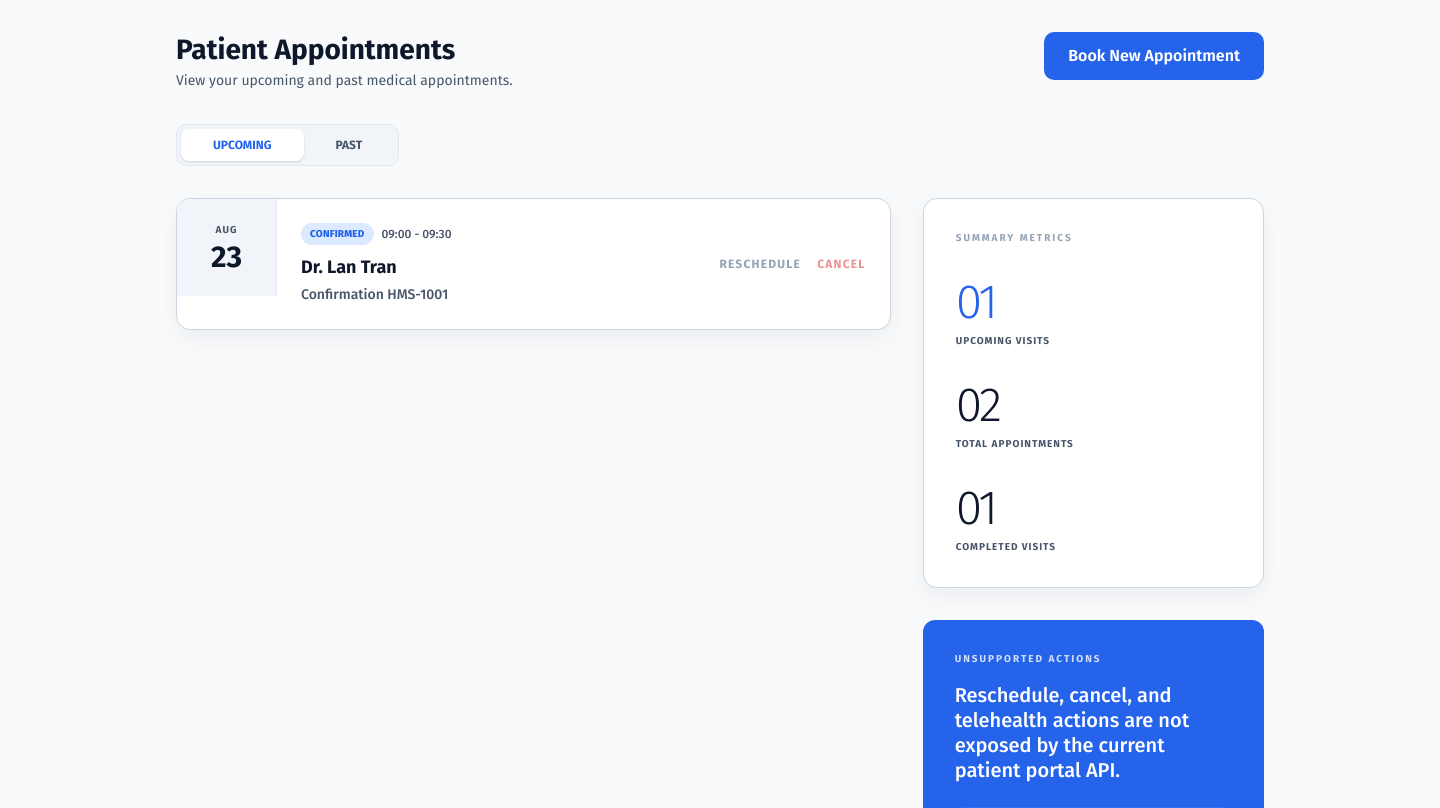
Test: PatientAppointmentsPage › switches between upcoming and past appointments
Expected: the heading "Dr. Lan Tran" is shown, [301,256,397,278]
Expected: the text "Dr. Minh Nguyen" is not shown
Step 1. Click the button "PAST" → (349, 145), box [304,129,394,161]
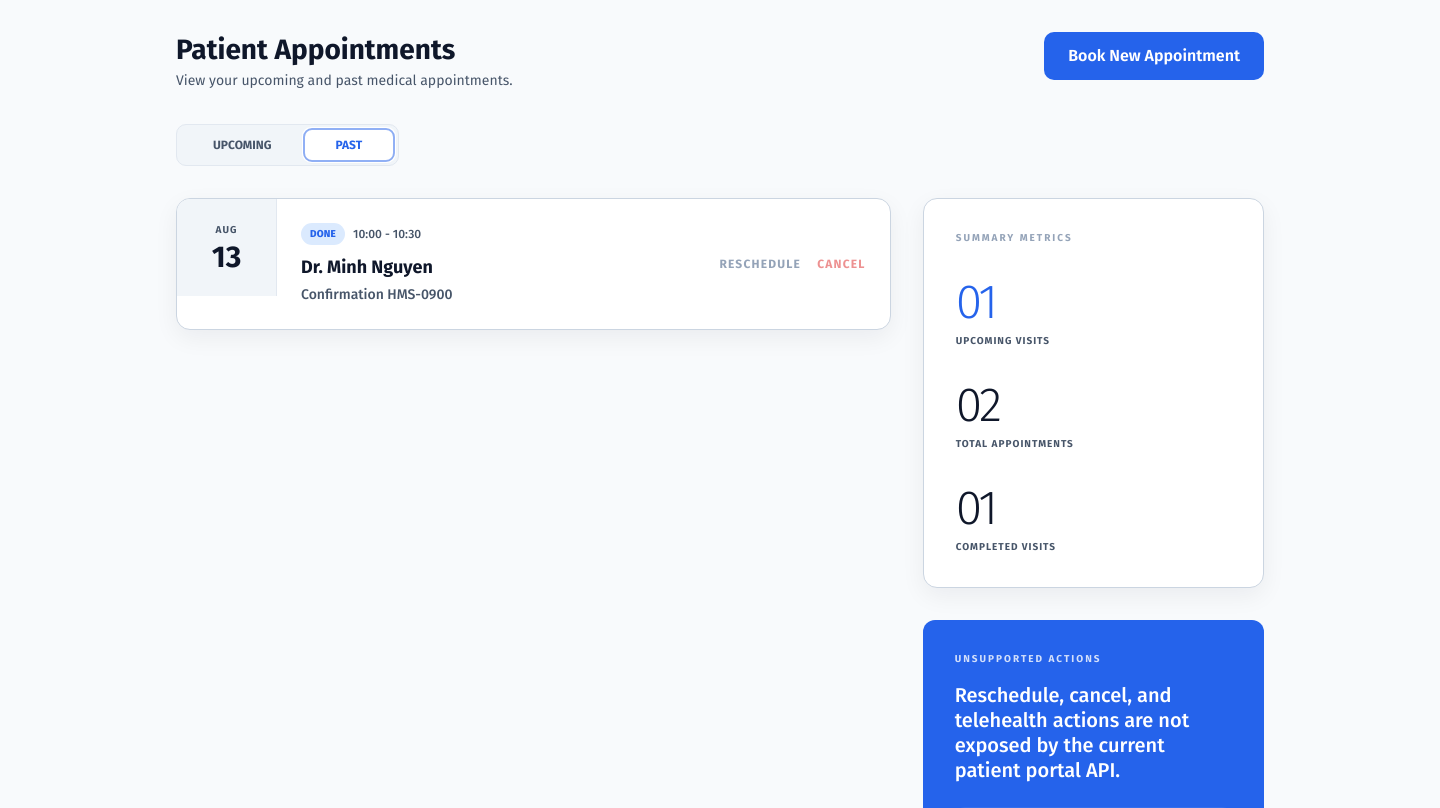
Expected: the heading "Dr. Minh Nguyen" is shown, [301,253,452,281]
Expected: the heading "Dr. Lan Tran" is gone
